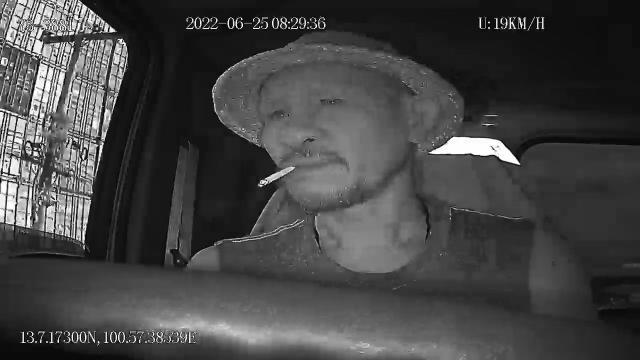Smoking: (259, 164, 297, 186)
